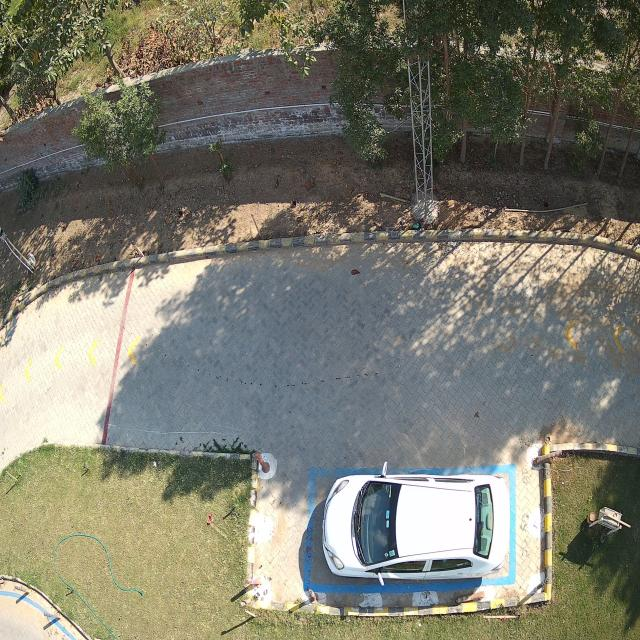car: (322, 468, 509, 580)
